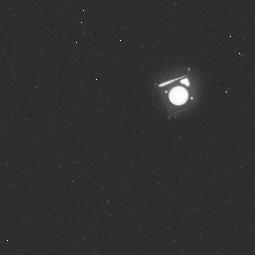proba_3_ocs: (138, 63, 209, 126)
